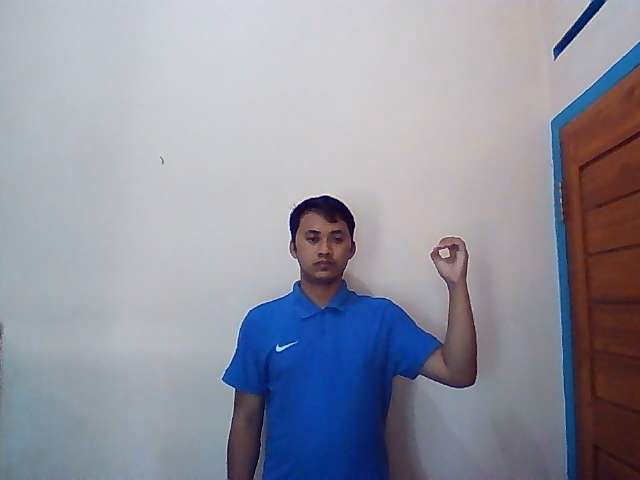O: (430, 236, 470, 283)
